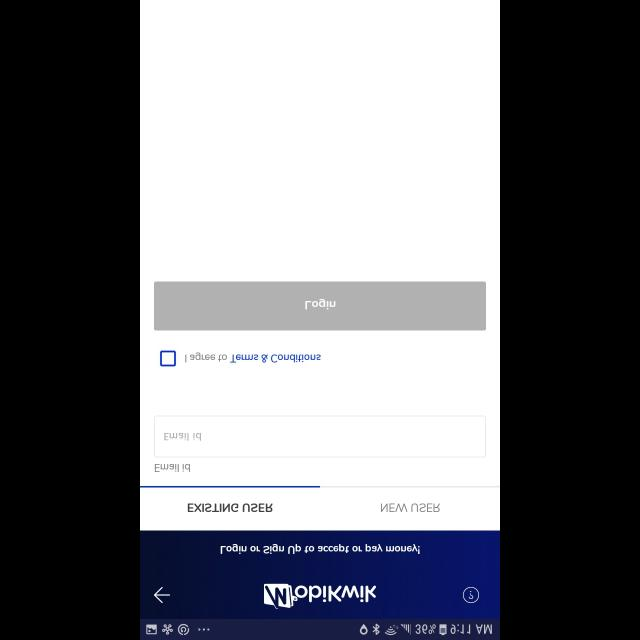checkbox: (160, 352, 176, 366)
icon: (154, 586, 170, 602), (463, 586, 479, 602)
image: (264, 583, 376, 609)
input: (154, 415, 486, 457)
text: (220, 544, 420, 556), (186, 352, 320, 362), (188, 503, 272, 512), (382, 503, 441, 512), (164, 432, 202, 440), (154, 464, 190, 472)
textbutton: (154, 282, 486, 331)
uppertaskbar: (140, 618, 500, 640)
